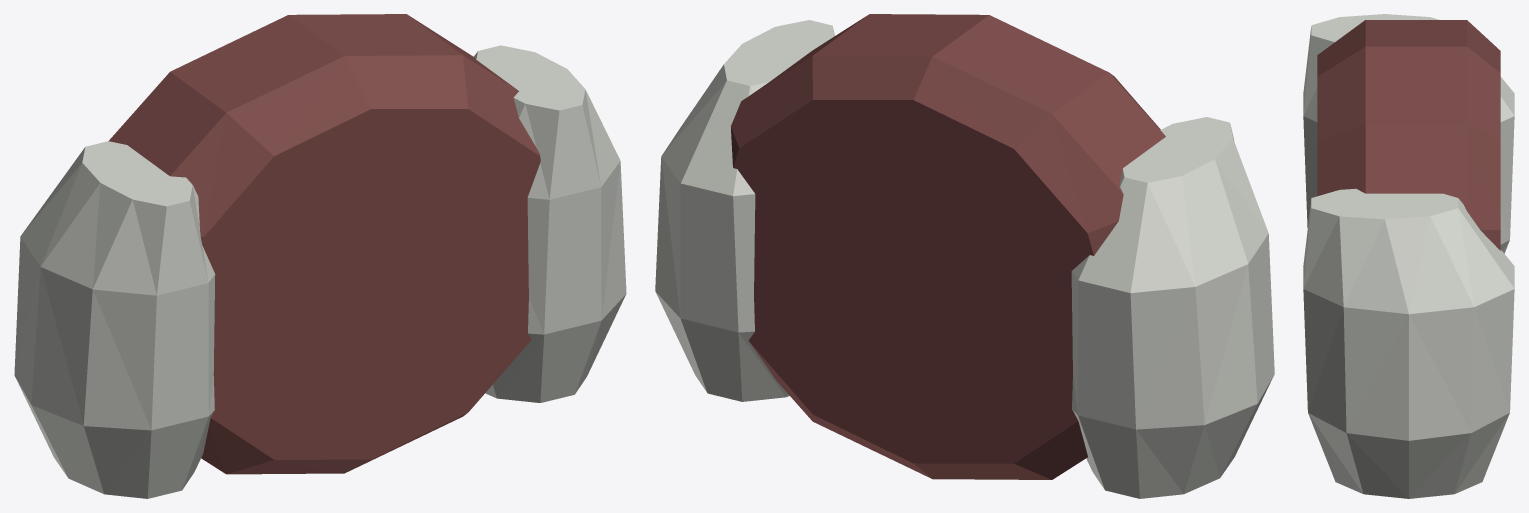
The model's file is warqueen_segment_3.obj.
3 renders of one model, left to right at view 1: azimuth 30°, elevation 25°; view 2: azimuth 150°, elevation 25°; view 3: azimuth 270°, elevation 25°, orthographic. The views are drawn at different scales.
Parts seen in each view (by area): view 1: warqueen_segment_3; view 2: warqueen_segment_3; view 3: warqueen_segment_3.
Part boxes in pixels (bbox=[...]): warqueen_segment_3: bbox=[14, 14, 626, 498]; warqueen_segment_3: bbox=[655, 14, 1274, 498]; warqueen_segment_3: bbox=[1303, 14, 1514, 498].
Size of the model in its own units: 1.25 by 0.86 by 0.4375.
